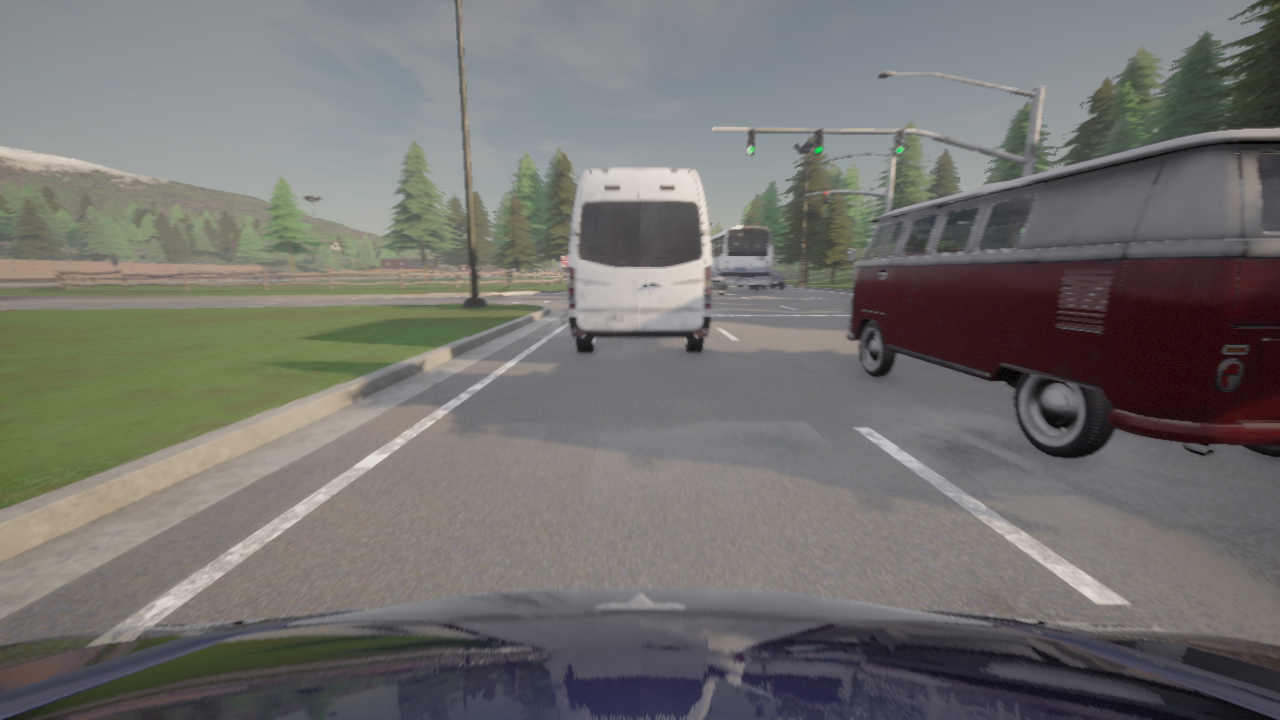cyclist: (0, 588, 1279, 719), (847, 128, 1279, 458), (567, 168, 712, 352), (710, 226, 771, 290), (761, 270, 784, 288), (712, 267, 726, 296)
